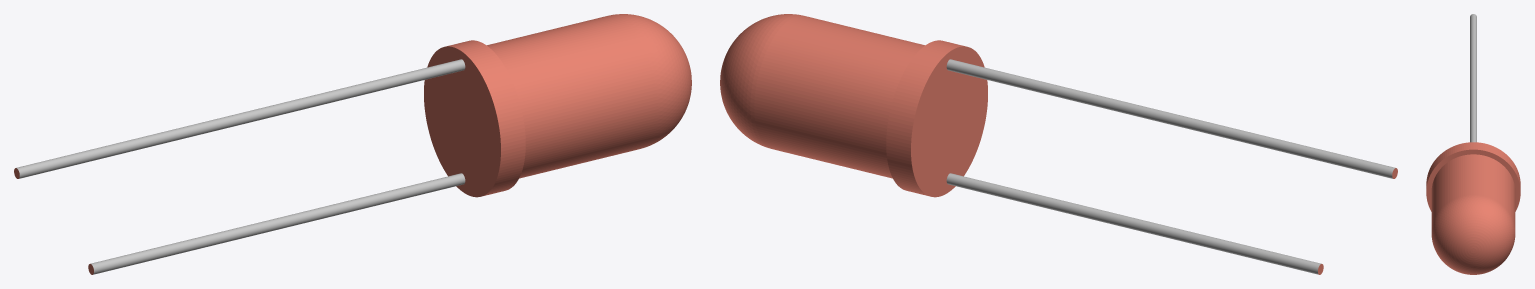
The model's file is led.fbx.
3 renders of one model, left to right at view 1: azimuth 30°, elevation 25°; view 2: azimuth 150°, elevation 25°; view 3: azimuth 270°, elevation 25°, orthographic. The views are drawn at different scales.
Parts seen in each view (by area): view 1: imagetostl_mesh0, imagetostl_mesh1; view 2: imagetostl_mesh0, imagetostl_mesh1; view 3: imagetostl_mesh0, imagetostl_mesh1.
Boxes of the visible parts, x1,y1,x2,y2 form: imagetostl_mesh0: (14, 14, 691, 274); imagetostl_mesh1: (16, 59, 465, 274); imagetostl_mesh0: (720, 14, 1397, 274); imagetostl_mesh1: (946, 59, 1395, 274); imagetostl_mesh0: (1426, 142, 1520, 274); imagetostl_mesh1: (1470, 14, 1476, 142).
Size of the model in its own units: 2690 by 540 by 540.
